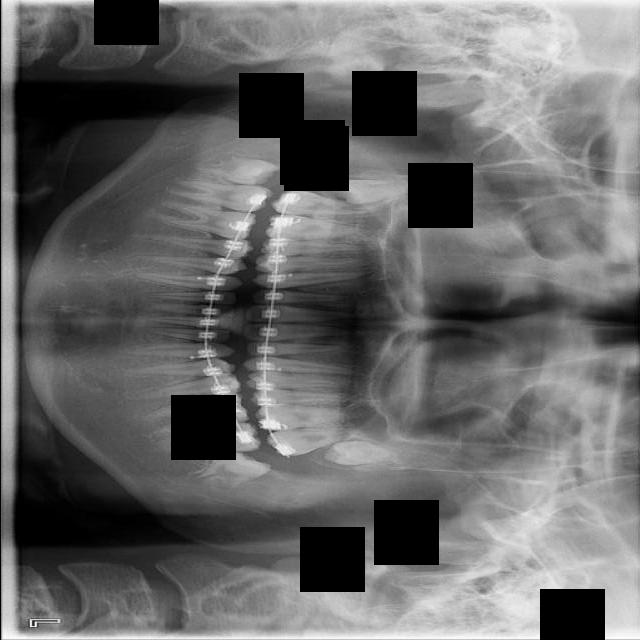3M ESPE Implant: (330, 177, 405, 206)
73: (88, 580, 100, 582)
BioHorizons Implant: (264, 424, 383, 458)
BioLife Implant: (322, 437, 409, 467)
Biomet 3i Implant: (187, 436, 273, 505)
Blue Sky Bio Implant: (153, 423, 260, 452)
Caries: (270, 189, 378, 217)
Implant: (170, 178, 272, 213)
Keystone Dental Implant: (197, 147, 279, 191)
